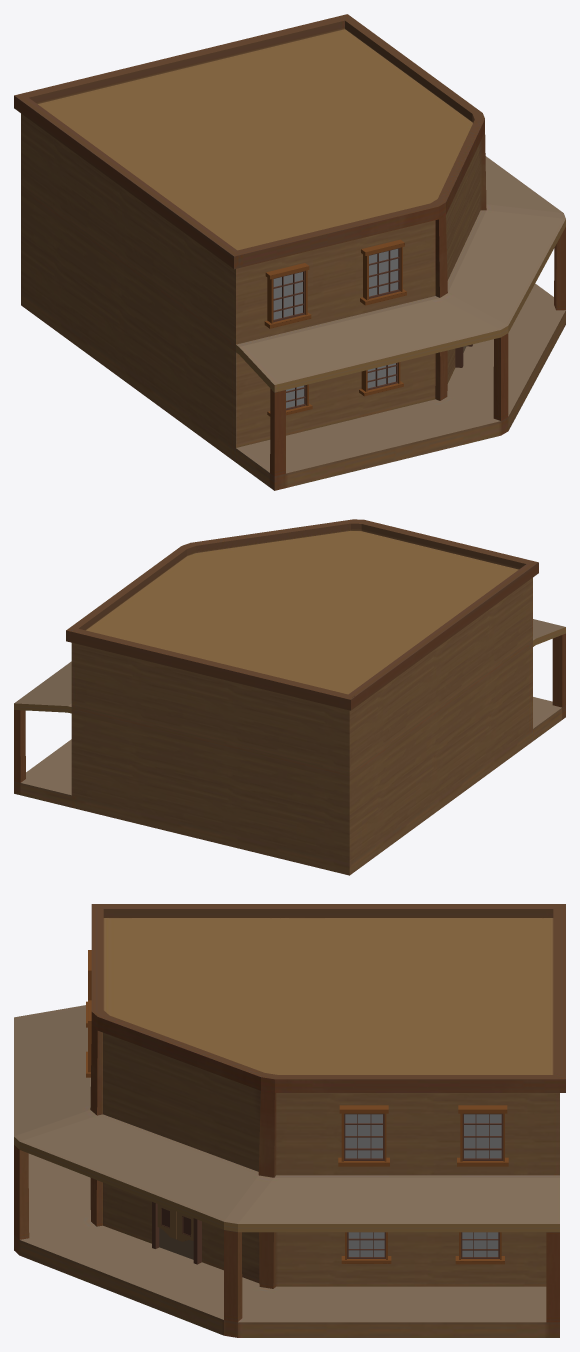
Rendered from SaloonV2.fbx.
3 renders of one model, top to bottom at view 1: azimuth 30°, elevation 25°; view 2: azimuth 150°, elevation 25°; view 3: azimuth 270°, elevation 25°, orthographic. The views are drawn at different scales.
Visible parts, largest first — view 1: BaseSaloon, JanelaSaloon; view 2: BaseSaloon; view 3: BaseSaloon, JanelaSaloon, PortaSaloon.
Part boxes in pixels (x1,y1,x2,y2): BaseSaloon: [14, 14, 565, 490]; JanelaSaloon: [264, 239, 406, 416]; BaseSaloon: [14, 519, 565, 875]; BaseSaloon: [14, 904, 565, 1337]; JanelaSaloon: [86, 950, 508, 1264]; PortaSaloon: [152, 1202, 201, 1264].
Size of the model in its own units: 1710 by 859 by 1909.
